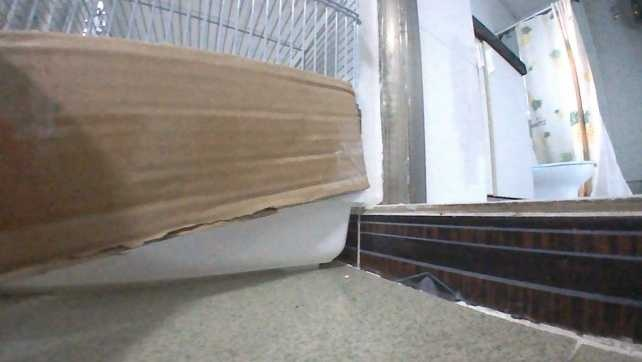door_sill: (334, 190, 641, 356)
toilet: (527, 135, 597, 200)
